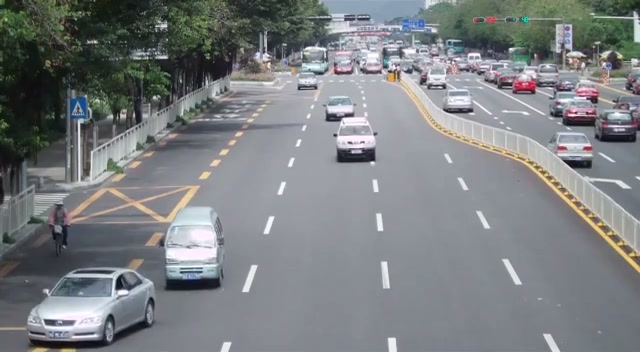bus: (301, 47, 329, 75)
car: (26, 266, 157, 347), (162, 206, 226, 290), (334, 117, 377, 163), (548, 130, 594, 168), (594, 109, 638, 142), (562, 99, 597, 126), (548, 92, 580, 118), (324, 95, 355, 121), (441, 89, 473, 113), (574, 81, 600, 103), (424, 65, 447, 89), (512, 75, 536, 94), (297, 71, 319, 90), (497, 71, 517, 88)
pedestrian: (47, 199, 70, 251)
truck: (301, 47, 329, 75)
